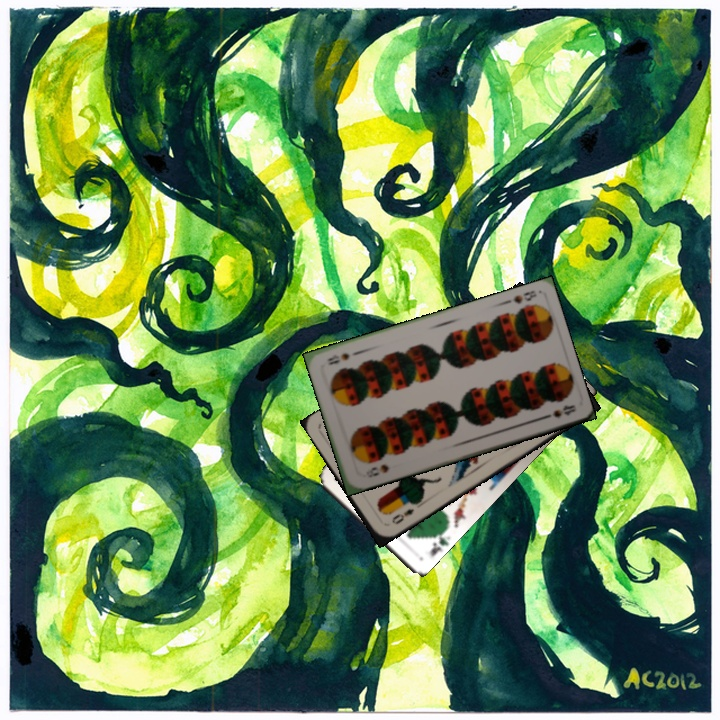EO: (388, 504, 417, 527)
GK: (426, 527, 453, 560)
S8: (509, 286, 539, 306), (364, 460, 392, 480)
